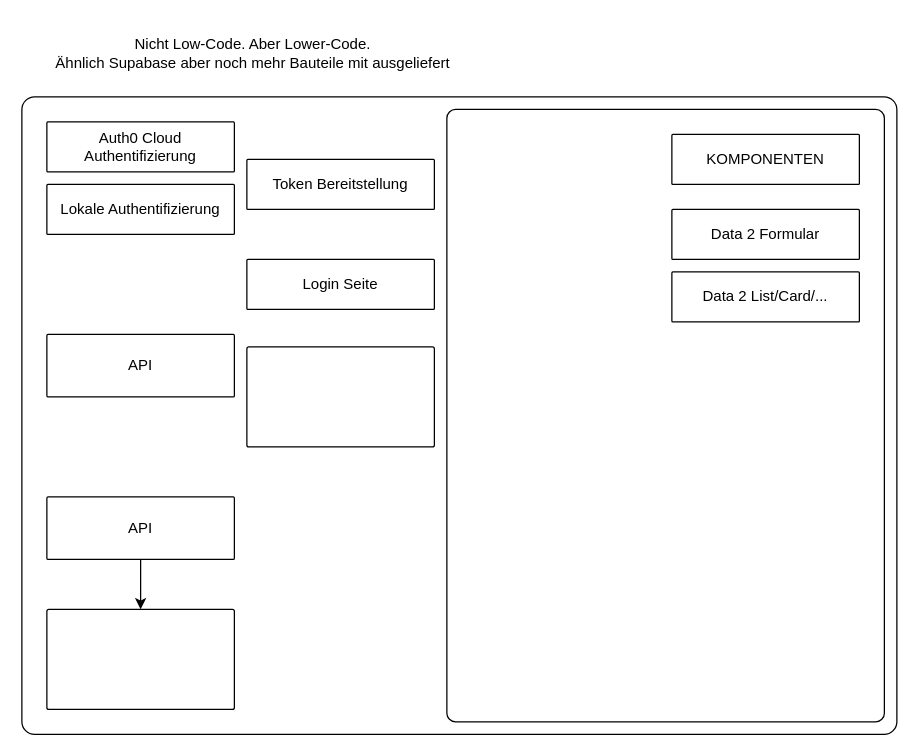
The diagram is 919 pixels wide and 756 high, and some of its shapes have lost their labels. The shapes that lost their labels are listed below. From the top down, each one's box as (x1, y1, x2, y2) in pixels, then its label:
(246, 346, 434, 447): Ggf eine allgemeine Überseite die iFrames rendert?
(46, 608, 234, 709): Datenbank
